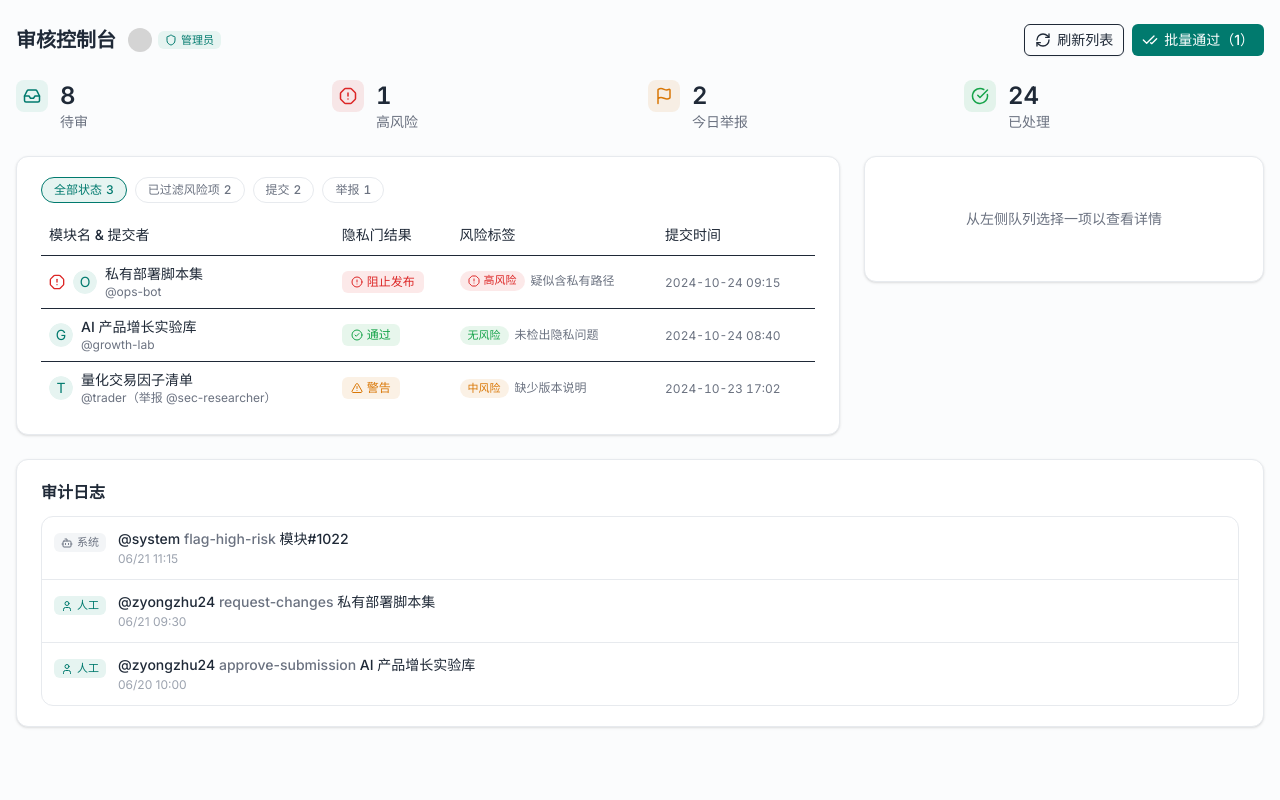
Scenario: AdminConsole（PAGE-080~085 集成） › block 行不渲染「通过」动作（INV-02）
This screenshot has width=1280, height=800.
Click the text "私有部署脚本集": (154, 274) [105,264,203,284]
(page scrolled)
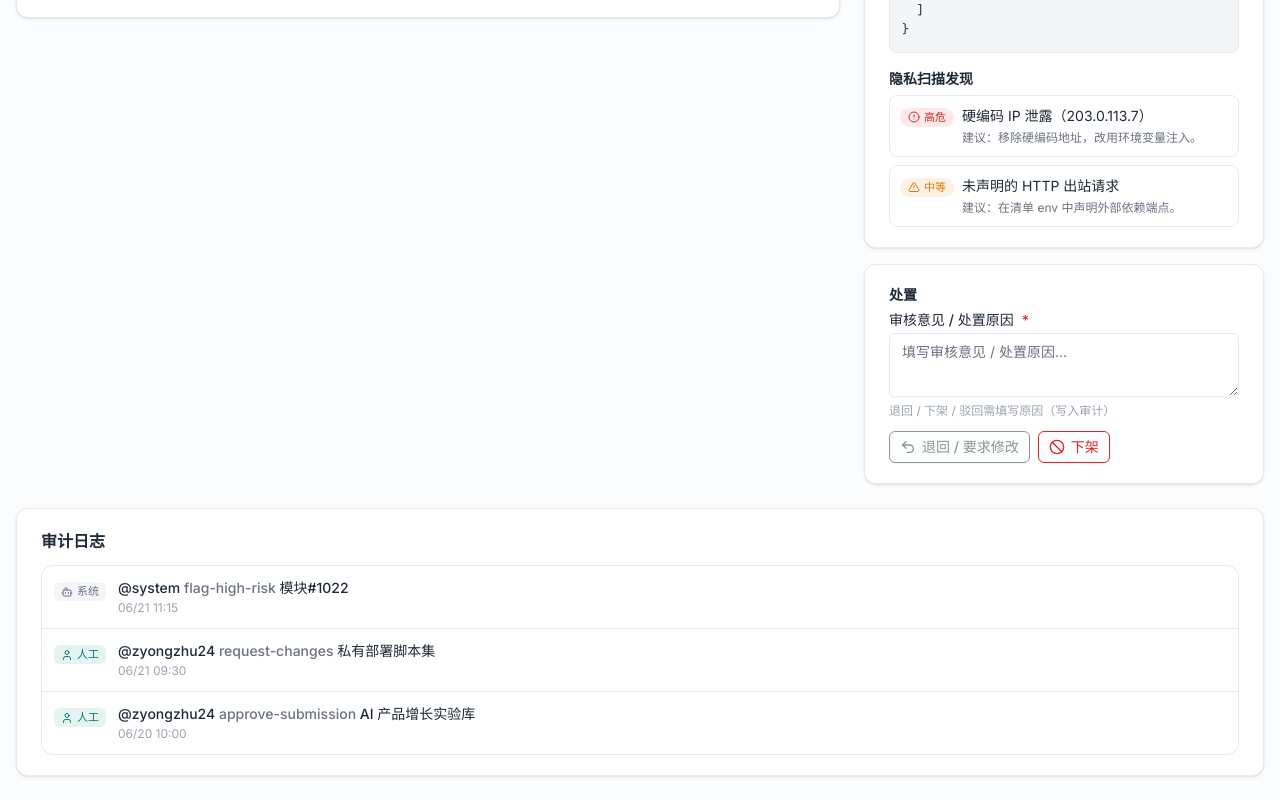
Expected: the button "通过" is not shown
Expected: the button "退回 / 要求修改" is shown, [889,430,1030,462]
Expected: the button "下架" is shown, [1038,430,1110,462]
